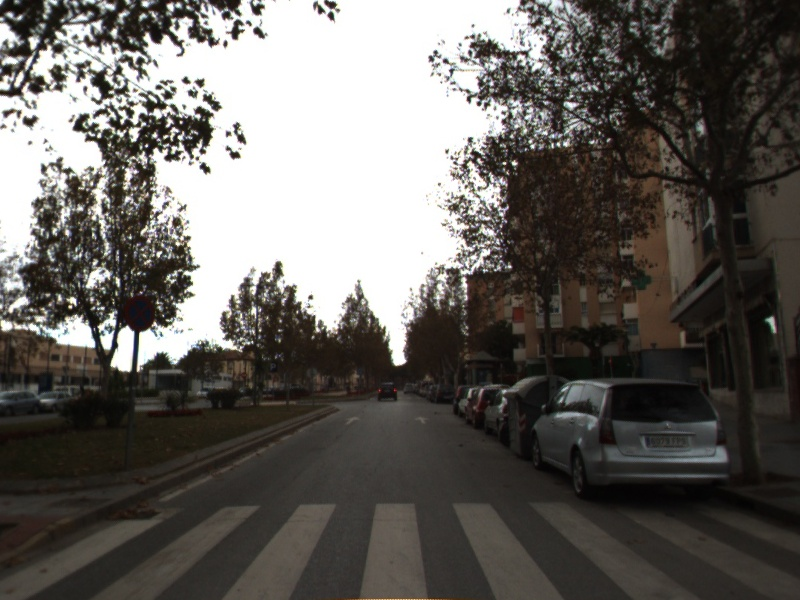STRAIGHT: (342, 415, 363, 427), (413, 414, 432, 425)
